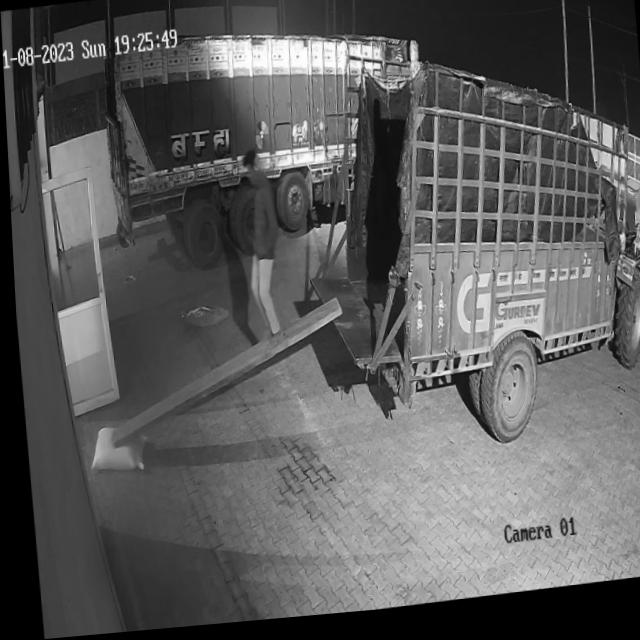sack: (83, 422, 142, 475)
